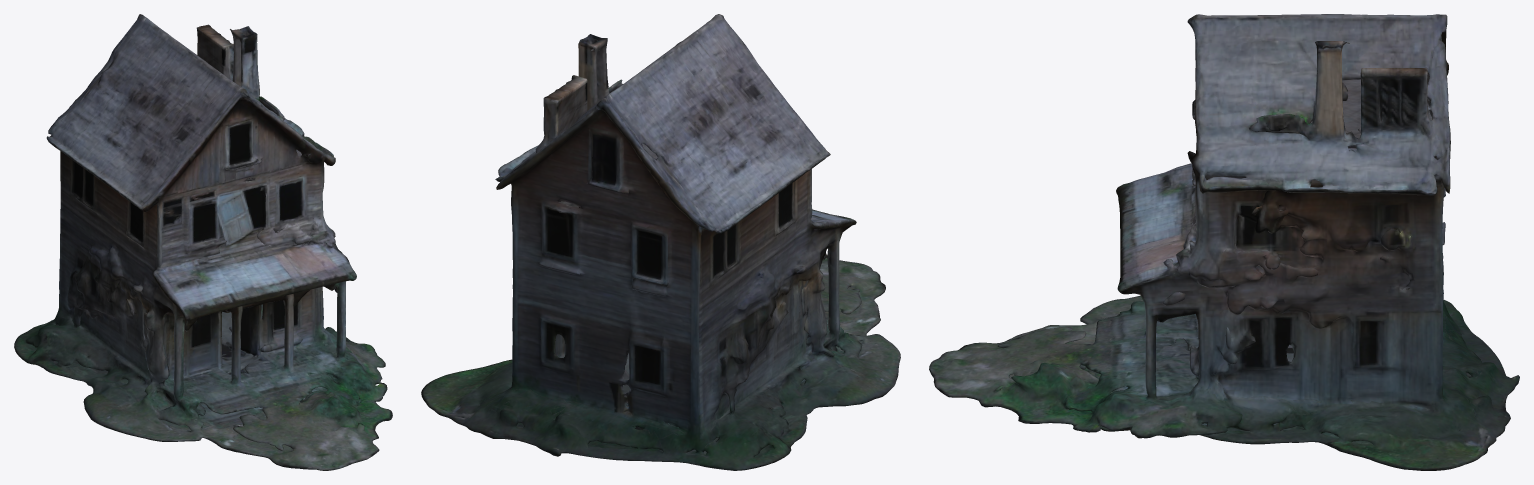
Rendered from Meshy_AI_An_abandoned_wooden_h_0330154104_texture.fbx.
3 views of the same model, side by side, from view 1: azimuth 30°, elevation 25°; view 2: azimuth 150°, elevation 25°; view 3: azimuth 270°, elevation 25° (orthographic). The views are drawn at different scales.
Parts seen in each view (by area): view 1: Mesh_0; view 2: Mesh_0; view 3: Mesh_0.
Boxes of the visible parts, box(x1,y1,x2,y2) form: Mesh_0: box(14, 14, 392, 470); Mesh_0: box(421, 14, 900, 470); Mesh_0: box(929, 14, 1519, 470).
Size of the model in its own units: 148 by 139 by 200.
Materials: 1 (1 with a texture image).
